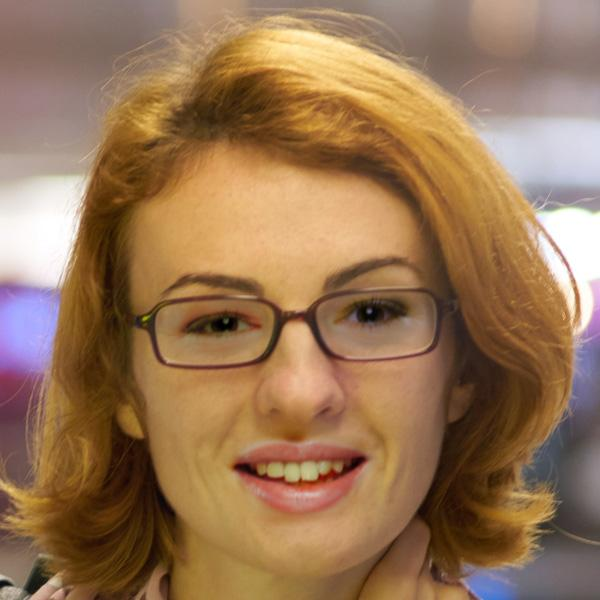Eyes: (172, 298, 268, 352), (329, 291, 412, 335)
